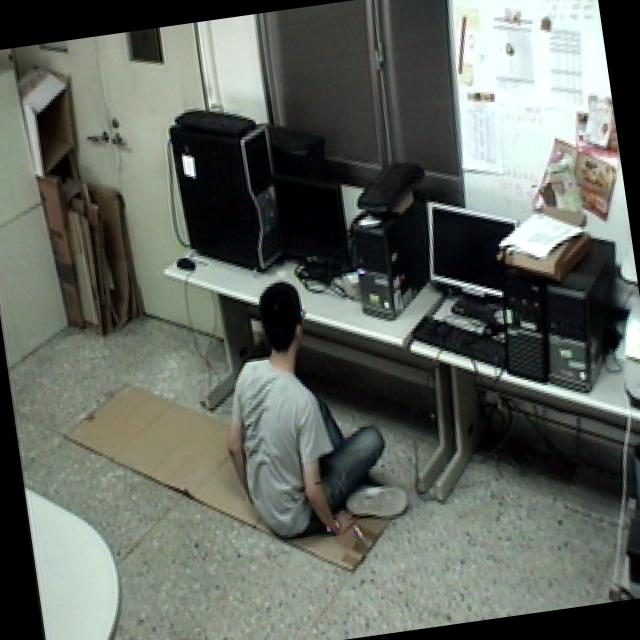sit: (203, 264, 415, 558)
